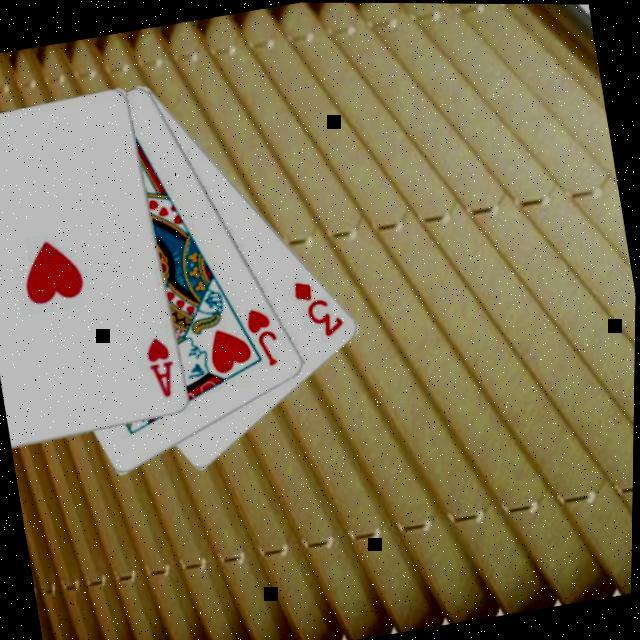3D: (290, 268, 352, 342)
AH: (143, 329, 185, 399)
JH: (243, 298, 289, 369)
